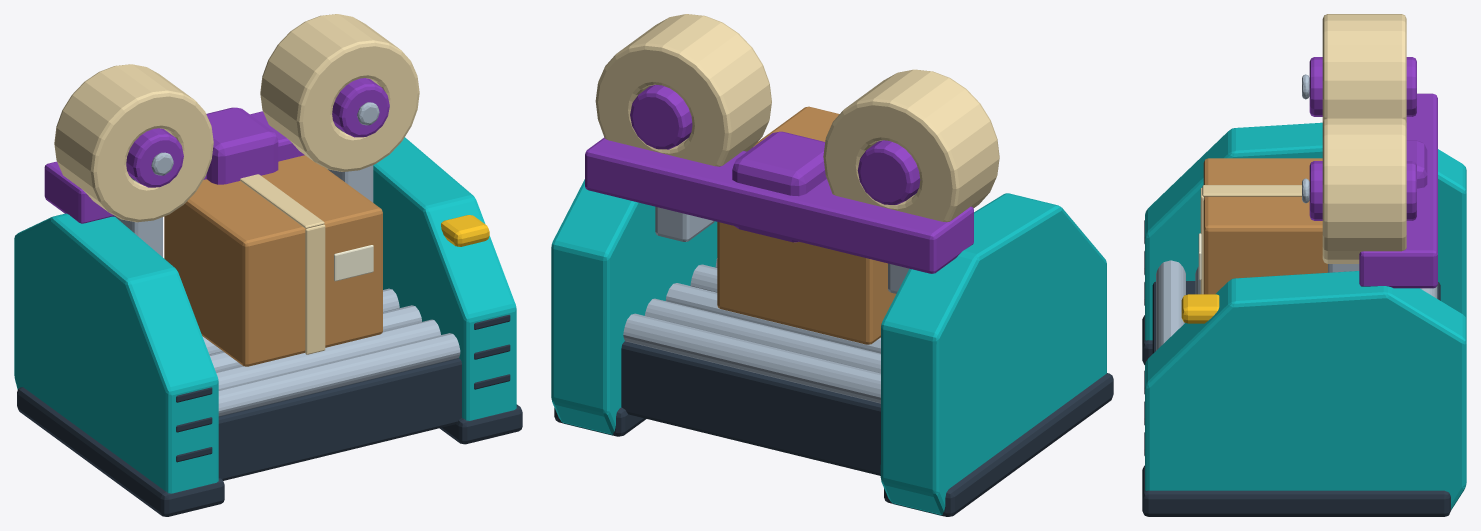
File: PackingMachine.fbx
The picture shows the model from 3 angles, left to right: view 1: azimuth 30°, elevation 25°; view 2: azimuth 150°, elevation 25°; view 3: azimuth 270°, elevation 25°; orthographic projection. The views are drawn at different scales.
Parts seen in each view (by area): view 1: PackingMachine; view 2: PackingMachine; view 3: PackingMachine.
Part boxes in pixels (bbox=[...]): PackingMachine: bbox=[14, 14, 522, 516]; PackingMachine: bbox=[551, 14, 1113, 516]; PackingMachine: bbox=[1142, 14, 1466, 516].
Size of the model in its own units: 1.65 by 1.5 by 1.24.
